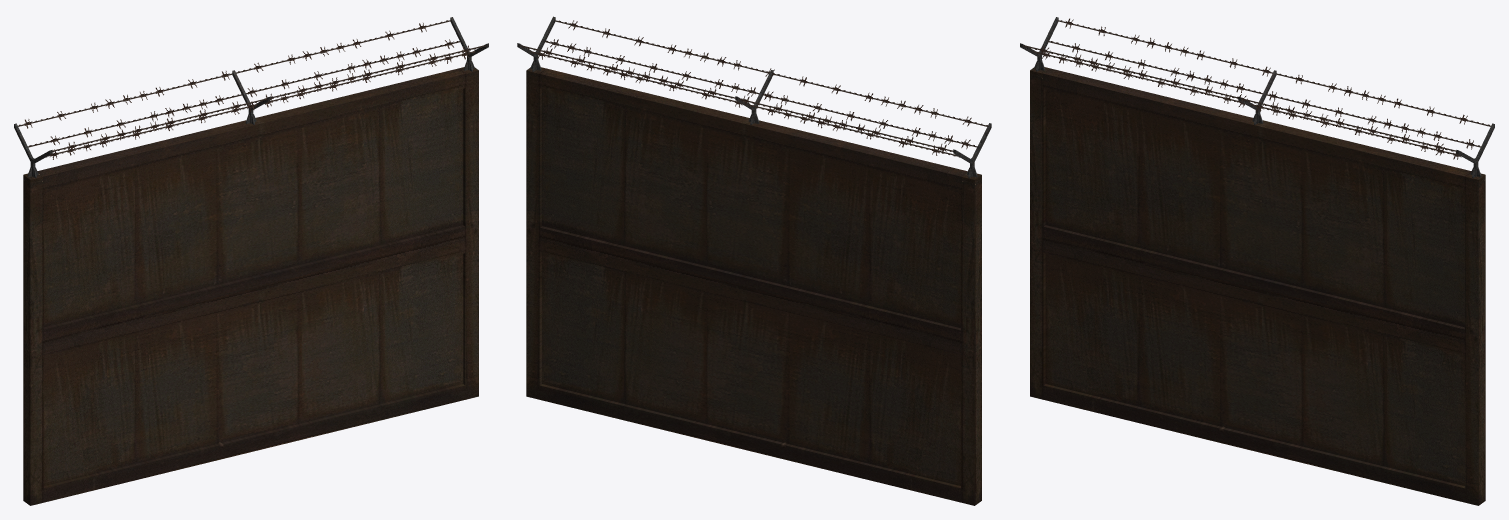
The model's file is metal_fence_hr_2.glb.
3 views of the same model, side by side, from view 1: azimuth 30°, elevation 25°; view 2: azimuth 150°, elevation 25°; view 3: azimuth 330°, elevation 25° (orthographic).
Parts seen in each view (by area): view 1: metal_fence_hr_2; view 2: metal_fence_hr_2; view 3: metal_fence_hr_2.
Part boxes in pixels (box(x1,y1,x2,y2)): metal_fence_hr_2: box(14, 17, 488, 505); metal_fence_hr_2: box(517, 16, 991, 505); metal_fence_hr_2: box(1020, 17, 1494, 505).
Bounding box in the file's own units: 3.6 × 2.82 × 0.5551.
Materials: 3 (3 with a texture image).
